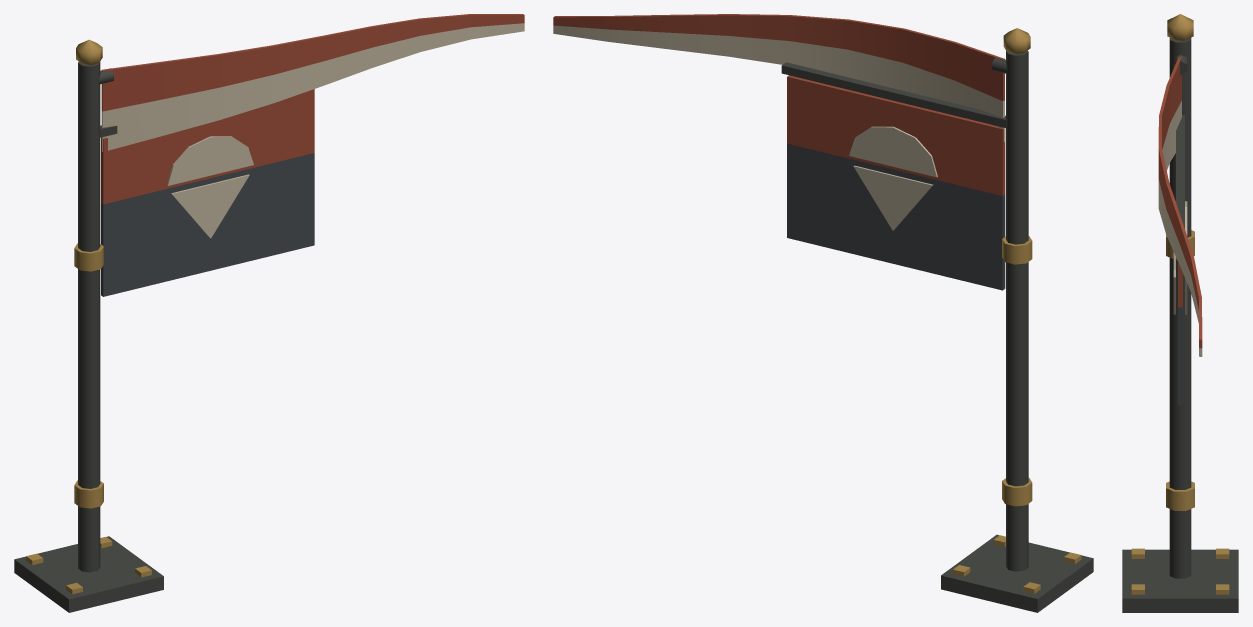
Rendered from wind_flag.glb.
The picture shows the model from 3 angles, left to right: view 1: azimuth 30°, elevation 25°; view 2: azimuth 150°, elevation 25°; view 3: azimuth 270°, elevation 25°; orthographic projection. The views are drawn at different scales.
Visible parts, largest first — view 1: wind_flag; view 2: wind_flag; view 3: wind_flag.
Part boxes in pixels (x1=…): wind_flag: x1=14, y1=14, x2=524, y2=612; wind_flag: x1=553, y1=14, x2=1093, y2=612; wind_flag: x1=1122, y1=14, x2=1238, y2=612.
Size of the model in its own units: 2.28 by 2.4 by 0.44.
